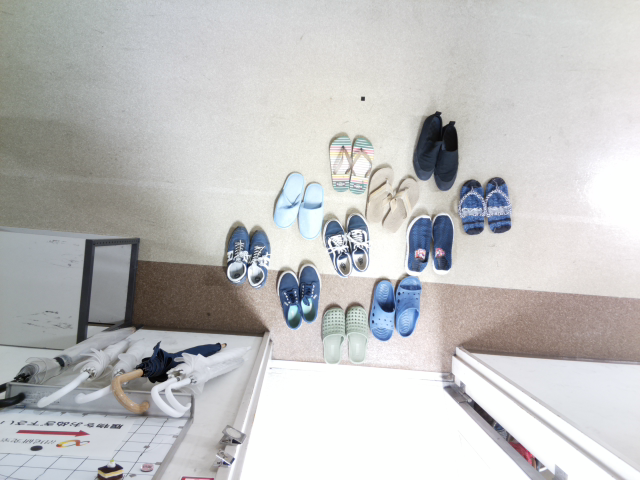Copy of Copy of Copy of Copy of Copy of Copy of Copy of Copy of Copy of shoes: (431, 121, 457, 190)
Copy of Copy of Copy of Copy of Copy of Copy of Copy of Copy of shoes: (411, 110, 442, 181)
Copy of Copy of Copy of Copy of Copy of Copy of Copy of shoes: (431, 212, 454, 274)
Copy of Copy of Copy of Copy of Copy of Copy of shoes: (405, 214, 431, 275)
Copy of Copy of Copy of Copy of Copy of shoes: (347, 211, 370, 272)
Copy of Copy of Copy of Copy of shoes: (321, 216, 351, 278)
Copy of Copy of Copy of sandal: (382, 177, 419, 232)
Copy of Copy of Copy of shoes: (298, 263, 320, 323)
Copy of Copy of Copy of slipper: (345, 304, 370, 365)
Copy of Copy of sandal: (365, 165, 394, 224)
Copy of Copy of shoes: (276, 268, 304, 329)
Copy of Copy of slipper: (321, 304, 346, 366)
Copy of sandal: (486, 175, 512, 234), (350, 136, 374, 195)
Copy of shoes: (247, 227, 269, 288)
Copy of slipper: (395, 275, 423, 338)
sandal: (458, 178, 485, 235), (327, 134, 351, 192)
shoes: (226, 223, 248, 285)
slipper: (273, 171, 305, 227), (368, 277, 396, 341), (297, 180, 325, 239)
